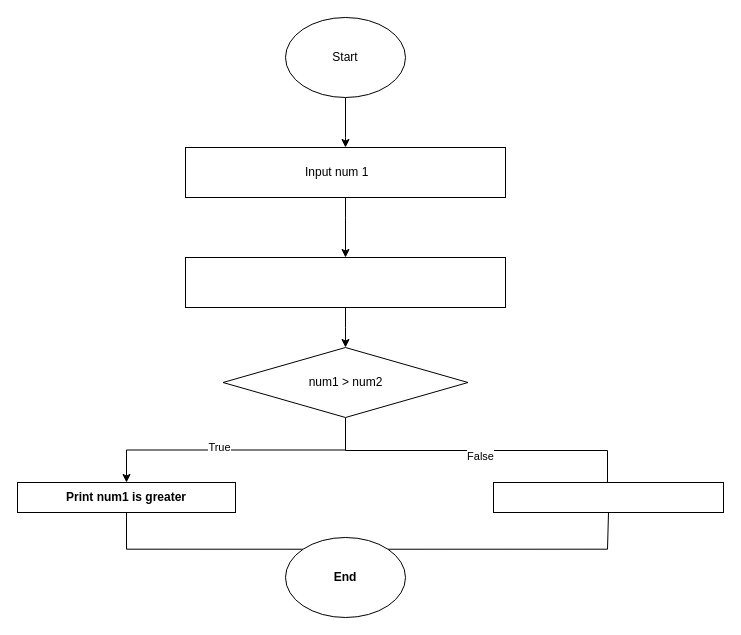
This 741x635 diagram has some shape labels left out. The box of each missing label's shape, as (x1, y1, x2, y2) in pixels:
Input num 2: (184, 256, 506, 308)
Print num2 is greater: (492, 482, 724, 512)
